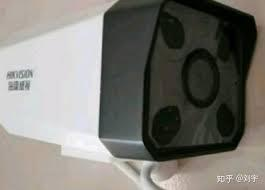tutu: (0, 0, 258, 154)
